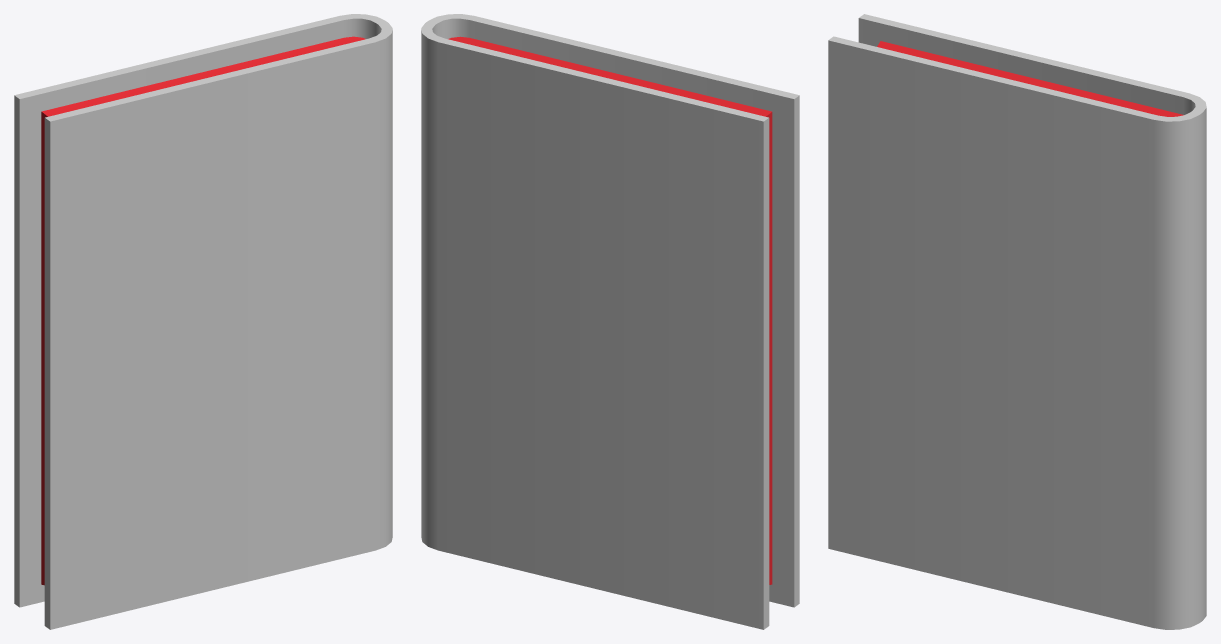
The model's file is book02.fbx.
3 renders of one model, left to right at view 1: azimuth 30°, elevation 25°; view 2: azimuth 150°, elevation 25°; view 3: azimuth 330°, elevation 25°, orthographic.
Visible parts, largest first — view 1: Plane; view 2: Plane; view 3: Plane.
Boxes of the visible parts, <box> form: Plane: <box>14,14,392,629</box>; Plane: <box>421,14,799,629</box>; Plane: <box>828,14,1206,629</box>.
Size of the model in its own units: 1.35 by 1.85 by 0.2375.
